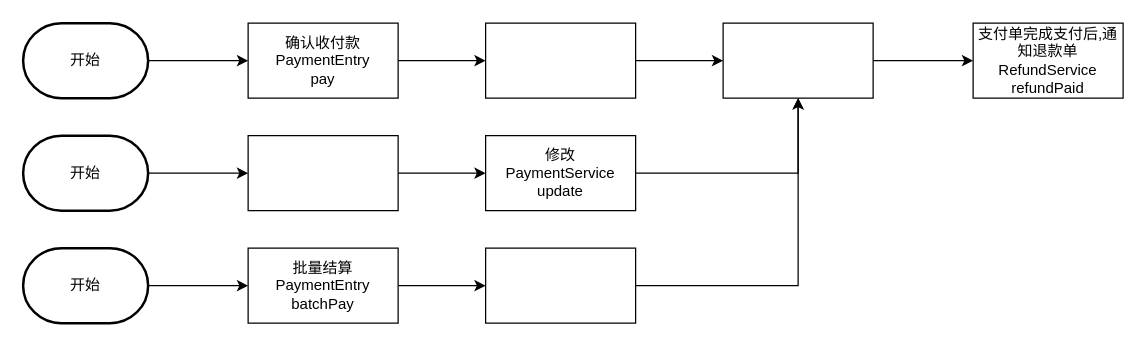
The diagram is 1145 pixels wide and 345 high, and some of its shapes have lost their labels. Here are the shapes that lost their labels. From the top down, the centre of each, then its label:
the point at 560,60: 客户端执行收付款操作调用 PaymentService pay
the point at 797,60: 通知业务单更新 PaymentService pay
the point at 322,172: 修改收付单 PaymentEntry update
the point at 560,285: 批量收款 PaymentService batchPay
